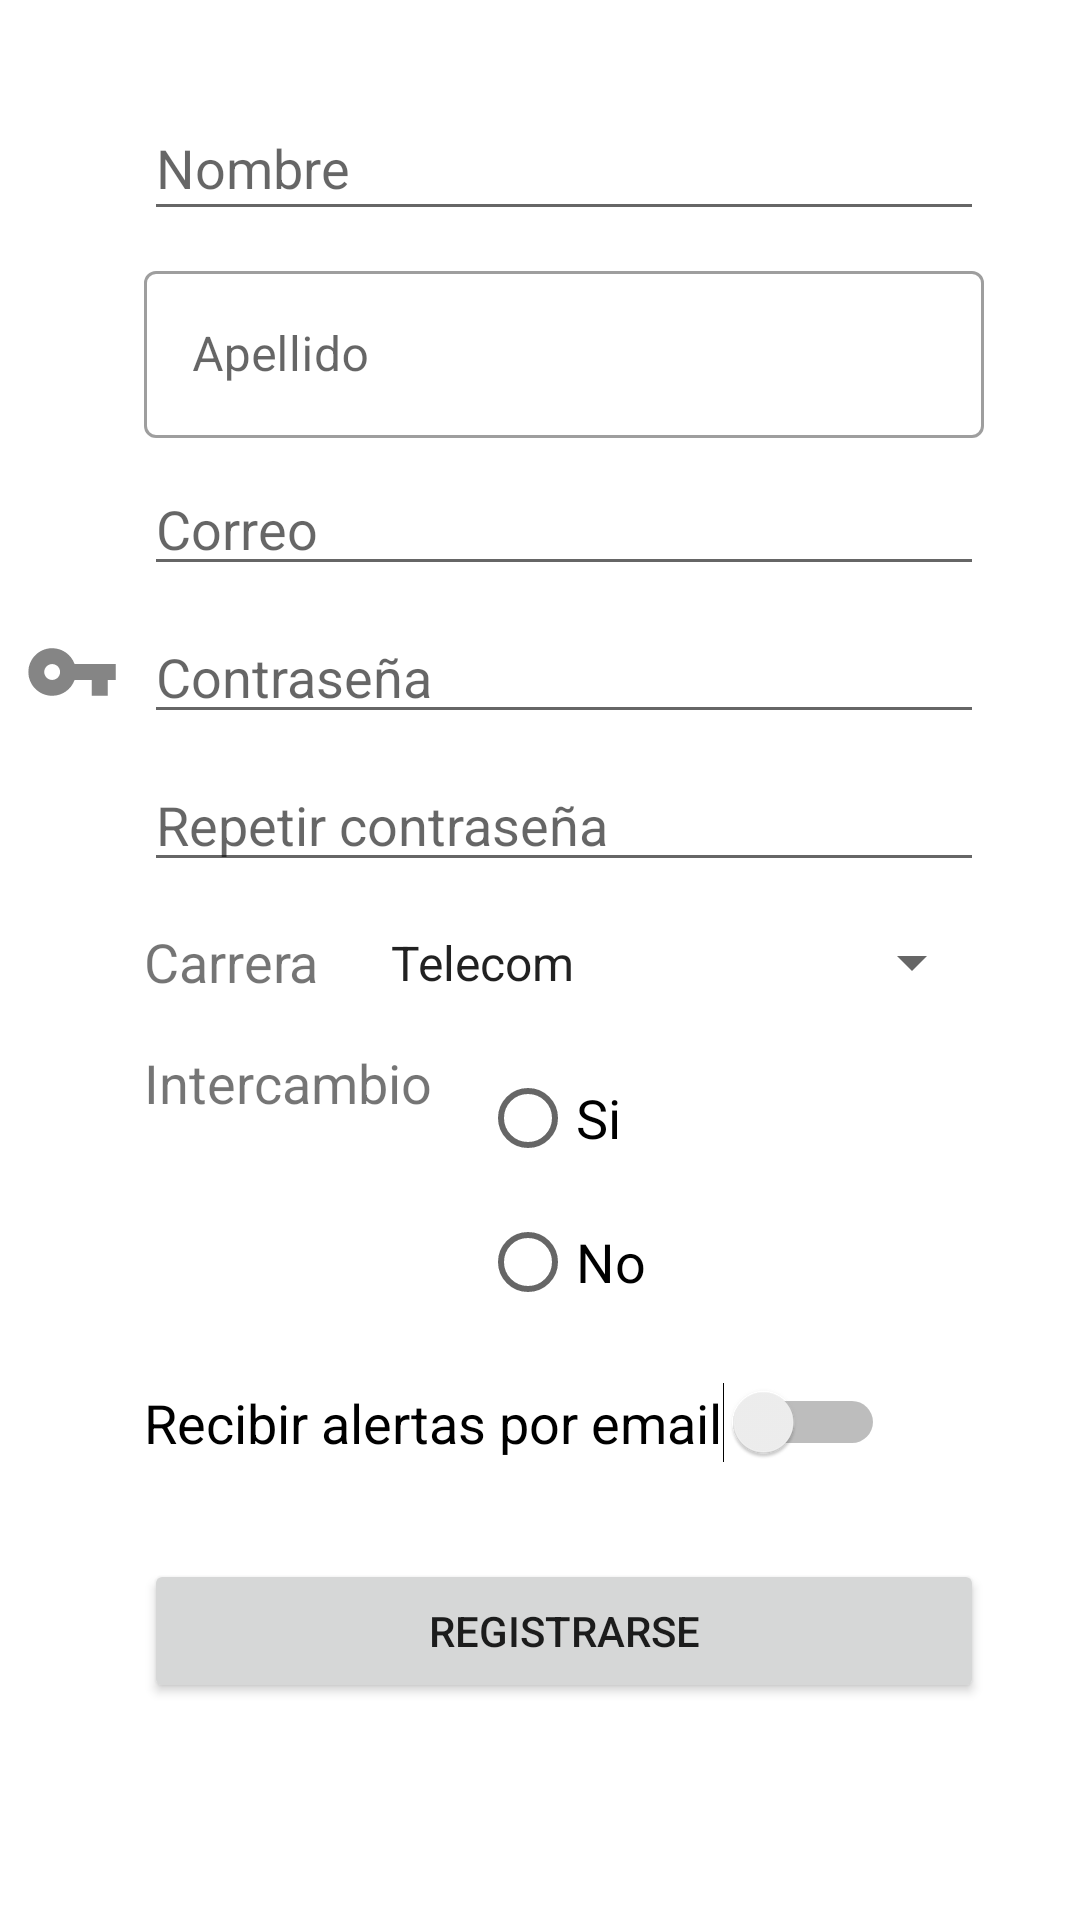

Icon click points for this 1080px x 1920px phone screenshot, format (x,y):
passwd: (72,672)
